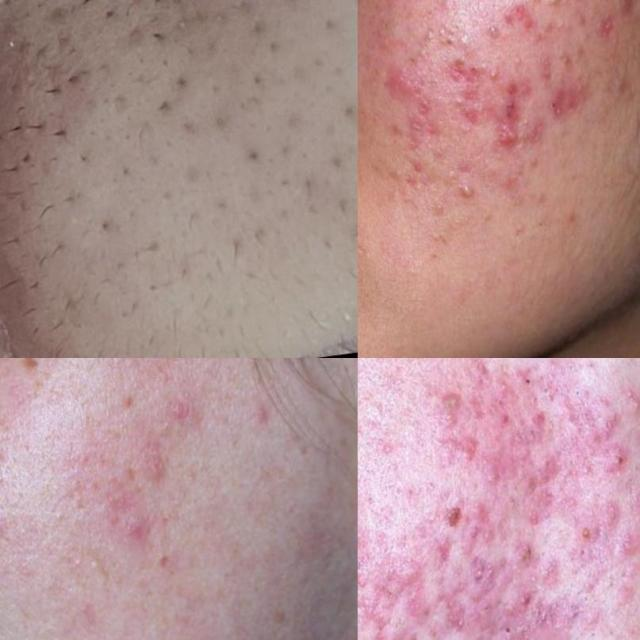acne_scars: (444, 80, 533, 134), (379, 63, 420, 103), (502, 0, 543, 36)
comedone: (98, 0, 248, 31), (240, 393, 283, 444), (417, 14, 463, 57), (473, 16, 508, 52), (470, 54, 508, 87), (546, 11, 578, 37), (552, 43, 573, 70), (441, 161, 464, 184), (0, 457, 13, 493)
papule: (108, 500, 172, 586), (129, 438, 191, 495), (0, 501, 14, 545)
pustule: (436, 378, 478, 419), (454, 170, 487, 213), (605, 447, 639, 485)
sebo-crystan-conglo: (541, 75, 579, 126), (464, 547, 503, 594), (484, 594, 534, 630), (490, 116, 528, 156), (513, 540, 550, 574), (604, 0, 639, 28), (445, 592, 471, 628), (499, 622, 545, 640), (537, 0, 565, 18)
